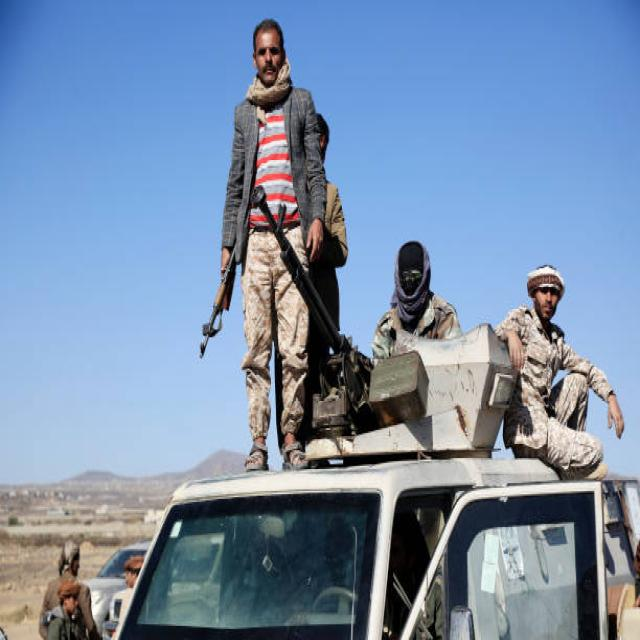LMV: (115, 169, 639, 638), (83, 541, 148, 638)
civilian: (494, 265, 623, 478), (39, 541, 101, 638)
terrorist: (200, 19, 325, 471), (371, 242, 459, 359), (372, 242, 457, 359)
